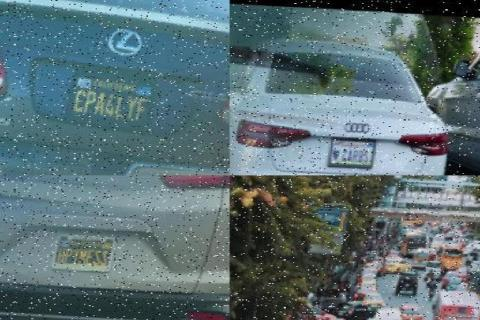LicensePlate: (70, 66, 162, 124), (330, 131, 382, 165)
